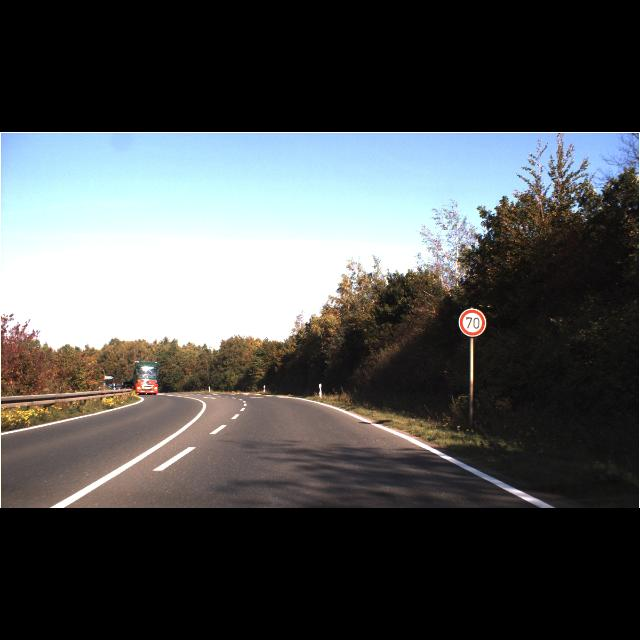prohibitory: (458, 308, 486, 336)
